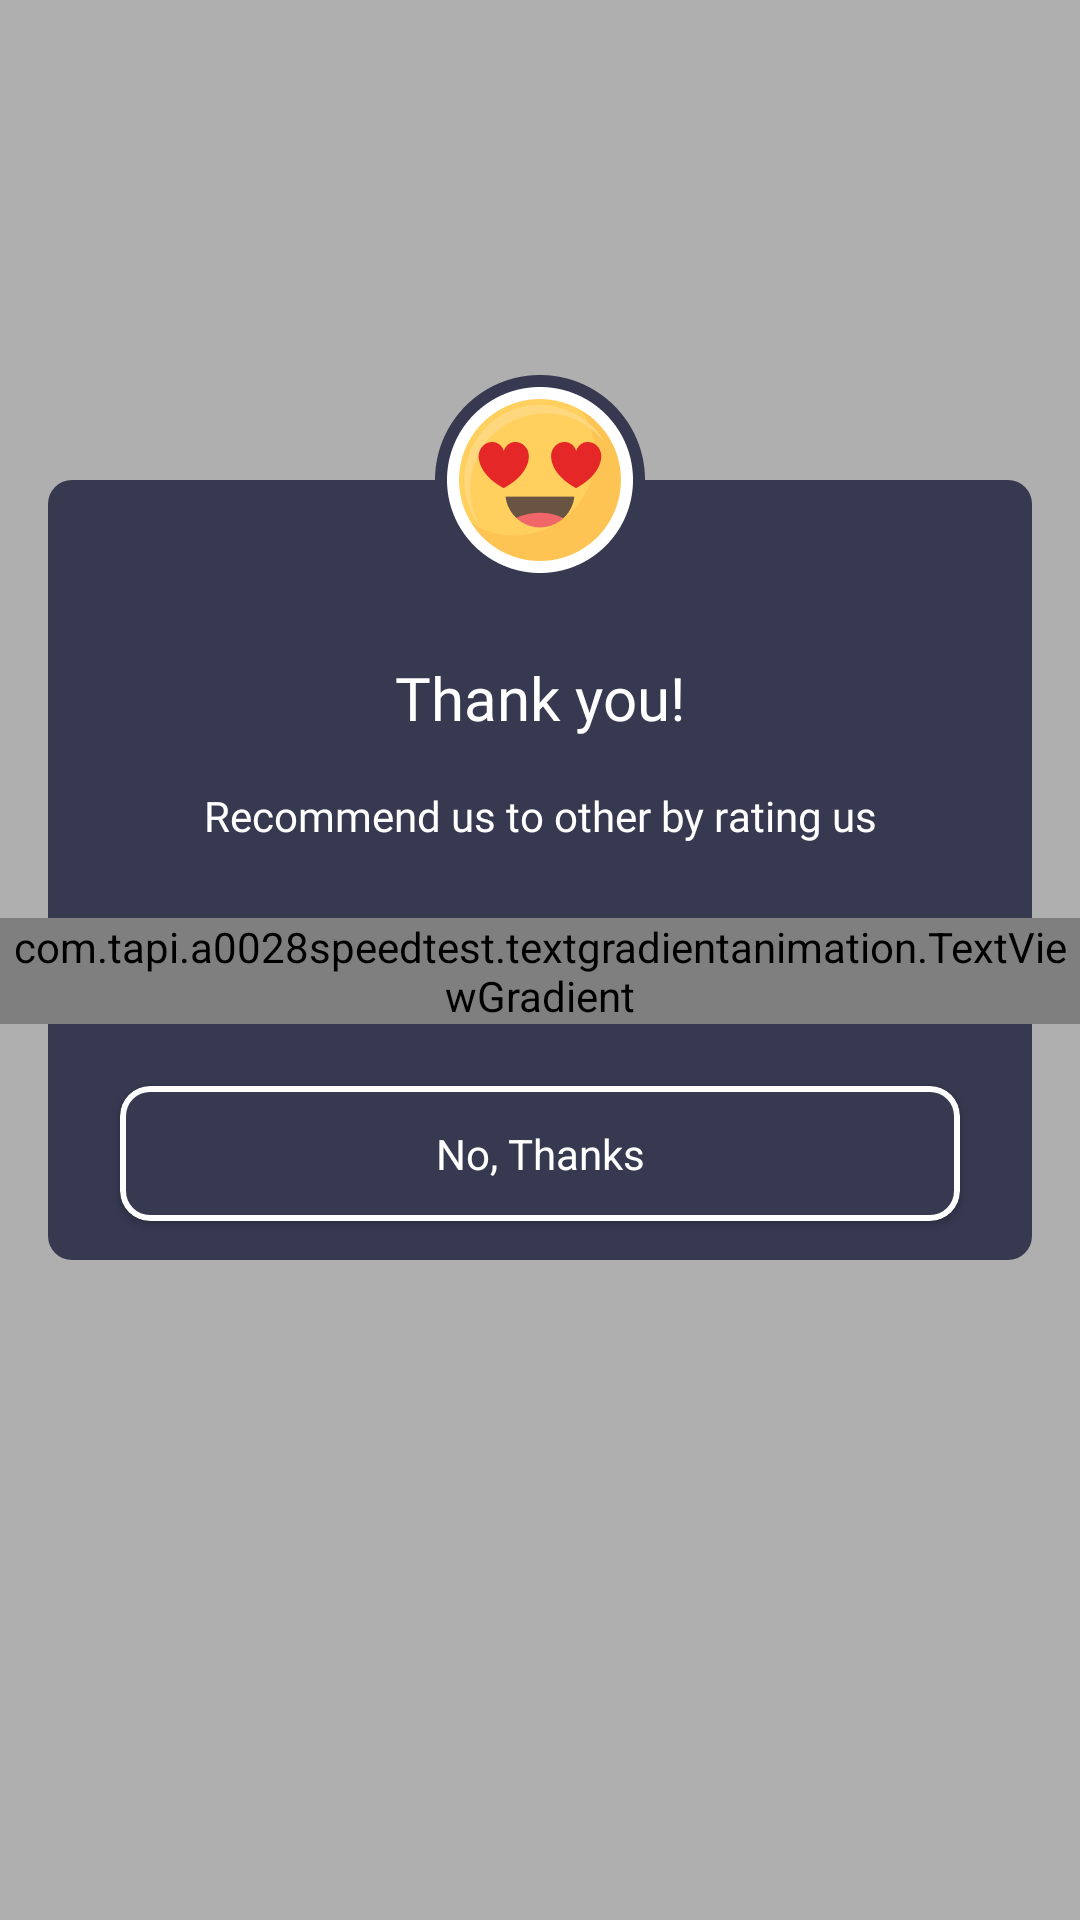

Icons on this 1080px x 1920px Android screen, each with the point to tap as (x,y):
love: (540,480)
